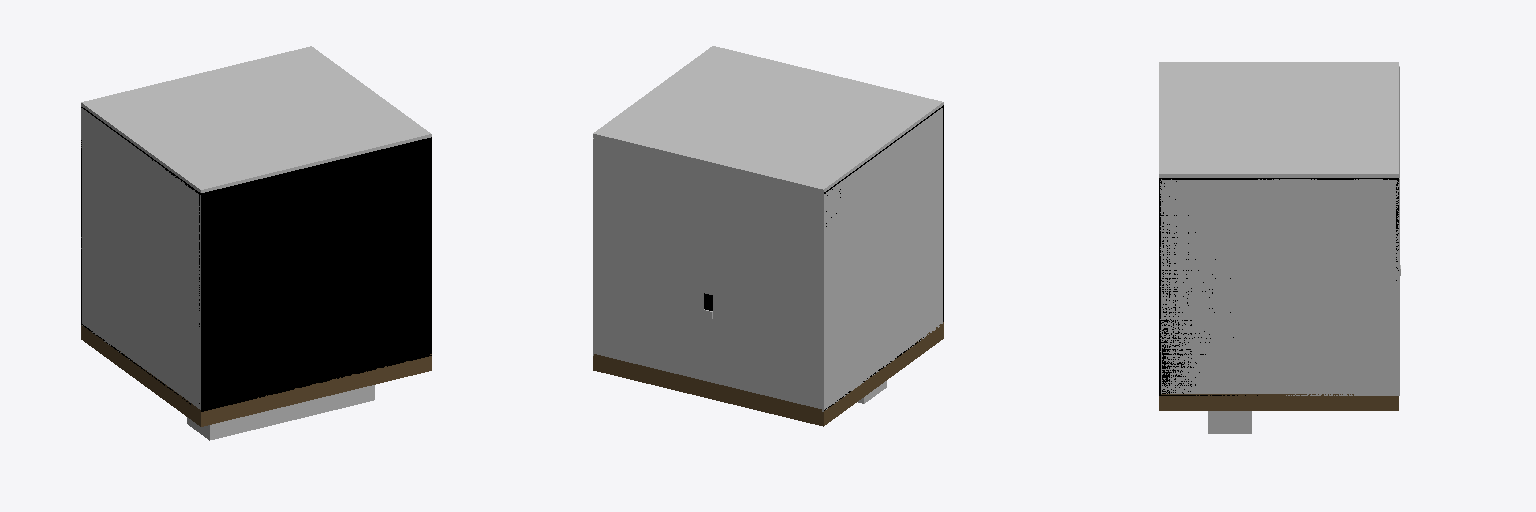
3 views of the same model, side by side, from view 1: azimuth 30°, elevation 25°; view 2: azimuth 150°, elevation 25°; view 3: azimuth 270°, elevation 25° (orthographic).
Parts seen in each view (by area): view 1: piano_no_skybox, UCX_piano_room_32, UCX_zone_piano_00, UCX_piano_floor_00, UCX_piano_room_05, UCX_piano_room_13; view 2: UCX_piano_room_01, UCX_piano_room_32, UCX_piano_room_00, UCX_zone_piano_00, UCX_piano_room_05, UCX_piano_floor_00, UCX_piano_room_02, UCX_piano_room_03, piano_no_skybox; view 3: UCX_zone_piano_00, UCX_piano_room_32, UCX_piano_floor_00, UCX_piano_room_06, piano_no_skybox, UCX_piano_room_13.
Part boxes in pixels (bbox=[...]): piano_no_skybox: bbox=[81, 107, 431, 411]; UCX_piano_room_32: bbox=[81, 46, 431, 192]; UCX_zone_piano_00: bbox=[83, 112, 198, 407]; UCX_piano_floor_00: bbox=[81, 325, 431, 426]; UCX_piano_room_05: bbox=[81, 108, 199, 408]; UCX_piano_room_13: bbox=[187, 385, 374, 440]; UCX_piano_room_01: bbox=[593, 133, 823, 321]; UCX_piano_room_32: bbox=[593, 46, 943, 192]; UCX_piano_room_00: bbox=[594, 283, 821, 408]; UCX_zone_piano_00: bbox=[827, 110, 941, 379]; UCX_piano_room_05: bbox=[822, 108, 942, 411]; UCX_piano_floor_00: bbox=[593, 322, 943, 426]; UCX_piano_room_02: bbox=[594, 267, 703, 309]; UCX_piano_room_03: bbox=[713, 296, 821, 338]; piano_no_skybox: bbox=[704, 105, 943, 410]; UCX_zone_piano_00: bbox=[1162, 180, 1395, 392]; UCX_piano_room_32: bbox=[1159, 62, 1398, 177]; UCX_piano_floor_00: bbox=[1159, 394, 1398, 410]; UCX_piano_room_06: bbox=[1161, 178, 1399, 395]; piano_no_skybox: bbox=[1159, 178, 1398, 395]; UCX_piano_room_13: bbox=[1208, 411, 1251, 433].
Size of the model in its own units: 100 by 114 by 90.52.
9 materials, 6 textured.